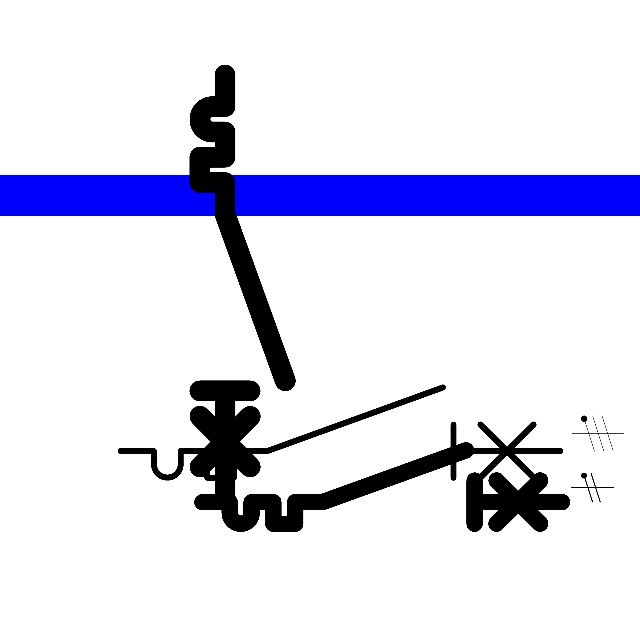interruptor_termomagnetico: (109, 376, 571, 489), (189, 64, 296, 503), (193, 441, 571, 533)
